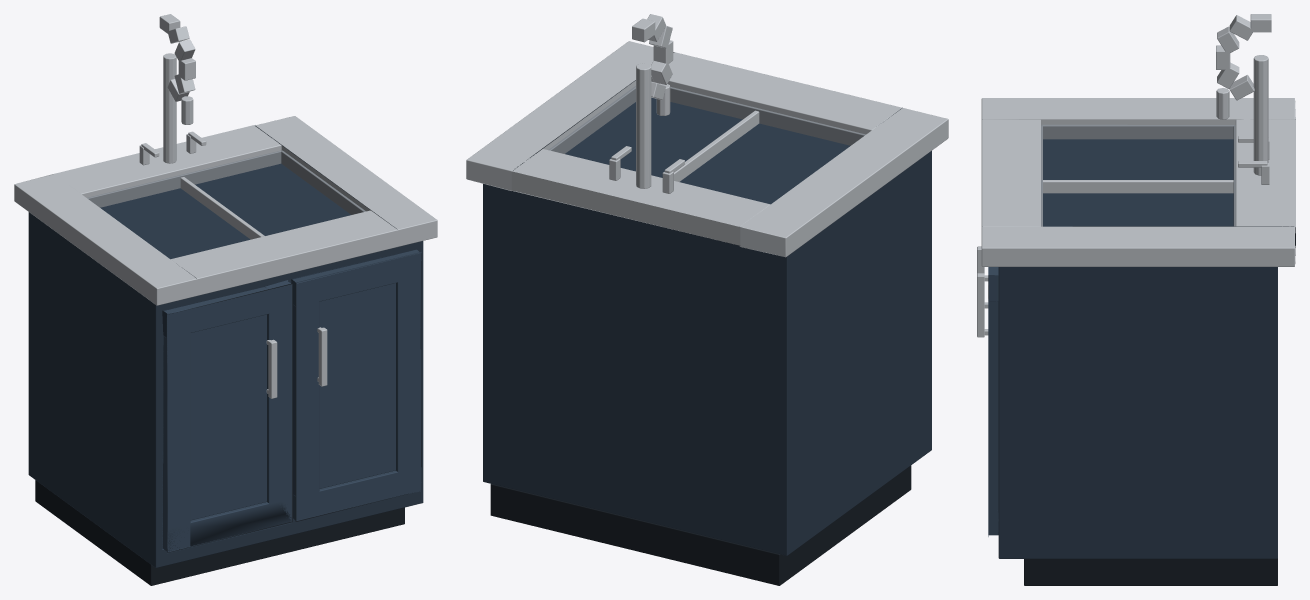
File: Sink.glb
3 views of the same model, side by side, from view 1: azimuth 30°, elevation 25°; view 2: azimuth 150°, elevation 25°; view 3: azimuth 270°, elevation 25° (orthographic). The views are drawn at different scales.
Parts seen in each view (by area): view 1: Sink; view 2: Sink; view 3: Sink.
Part boxes in pixels (x1,y1,x2,y2): Sink: (14,14,437,585); Sink: (466,14,948,585); Sink: (977,14,1295,585).
Bounding box in the file's own units: 0.84 × 1.31 × 0.753.
